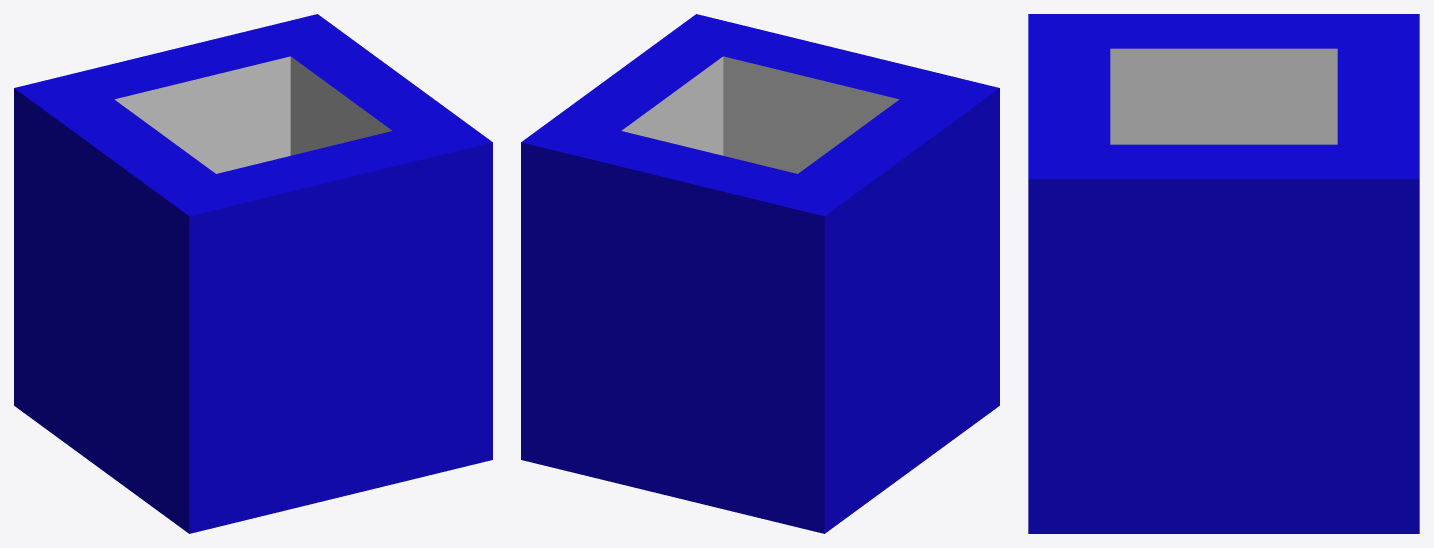
Rendered from PLAT_CUBE.fbx.
The picture shows the model from 3 angles, left to right: view 1: azimuth 30°, elevation 25°; view 2: azimuth 150°, elevation 25°; view 3: azimuth 270°, elevation 25°; orthographic projection. The views are drawn at different scales.
Parts seen in each view (by area): view 1: Cube; view 2: Cube; view 3: Cube.
Boxes of the visible parts, x1=… form: Cube: x1=14, y1=14, x2=492, y2=533; Cube: x1=521, y1=14, x2=999, y2=533; Cube: x1=1028, y1=14, x2=1419, y2=533.
Bounding box in the file's own units: 200 × 200 × 200.
